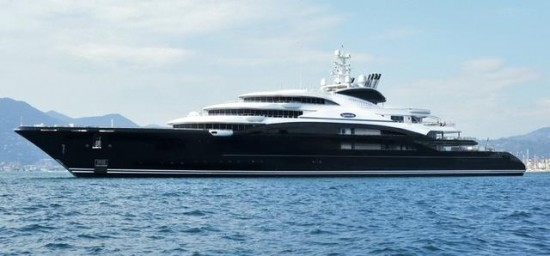yacht: (10, 39, 533, 179)
